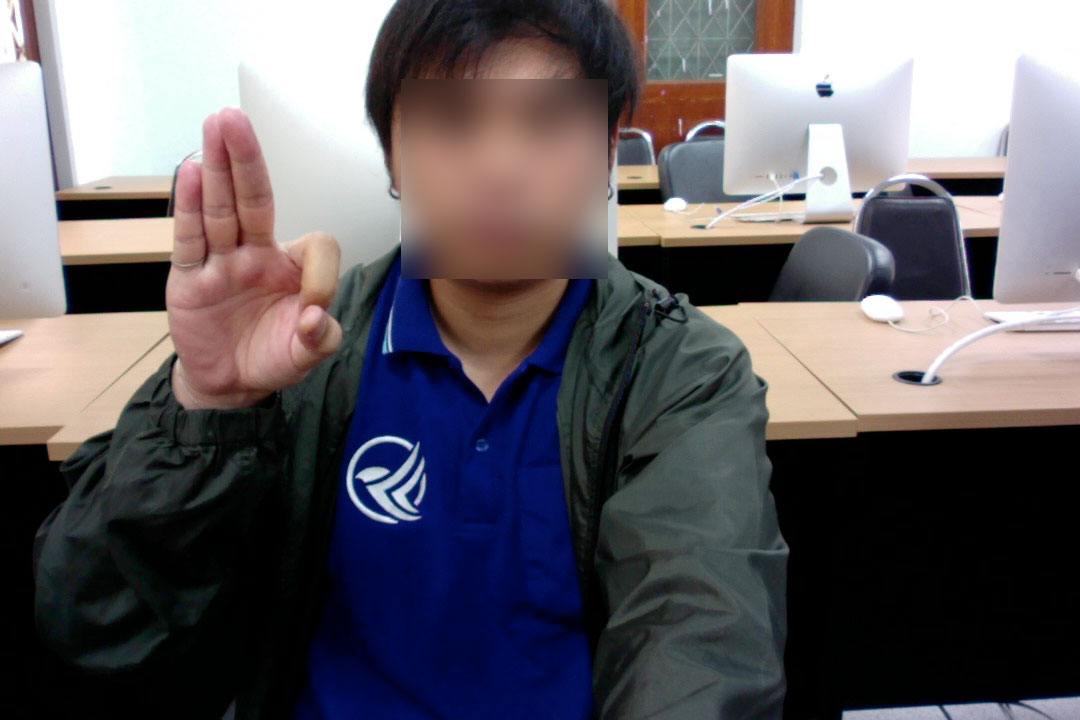for: (143, 87, 356, 433)
